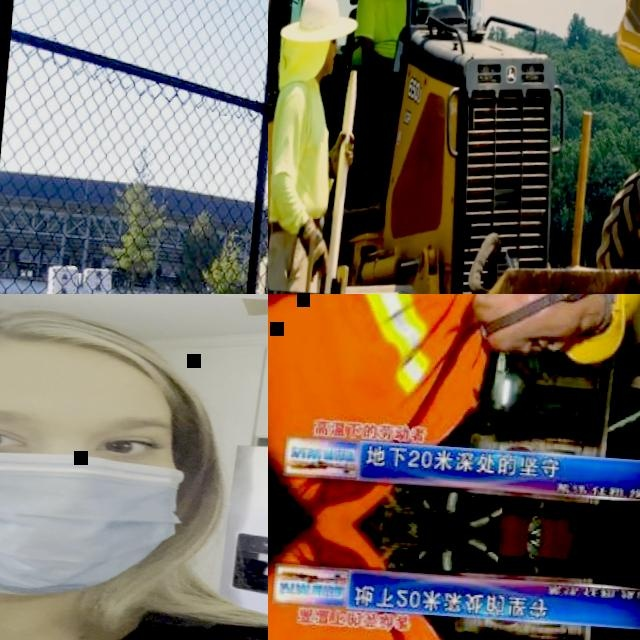Hardhat: (516, 294, 640, 368)
Mask: (0, 448, 191, 598)
NO-Hardhat: (0, 302, 189, 418), (295, 0, 343, 44)
NO-Mask: (485, 294, 559, 358), (325, 50, 336, 74)
NO-Safety Vest: (0, 555, 268, 640), (268, 75, 340, 224), (350, 0, 409, 67)
Person: (0, 294, 268, 640), (268, 294, 640, 503), (268, 0, 368, 293), (268, 518, 482, 640), (340, 0, 415, 198)
Safety Vest: (268, 294, 485, 490), (268, 566, 468, 640)
machinery: (268, 0, 640, 294)
